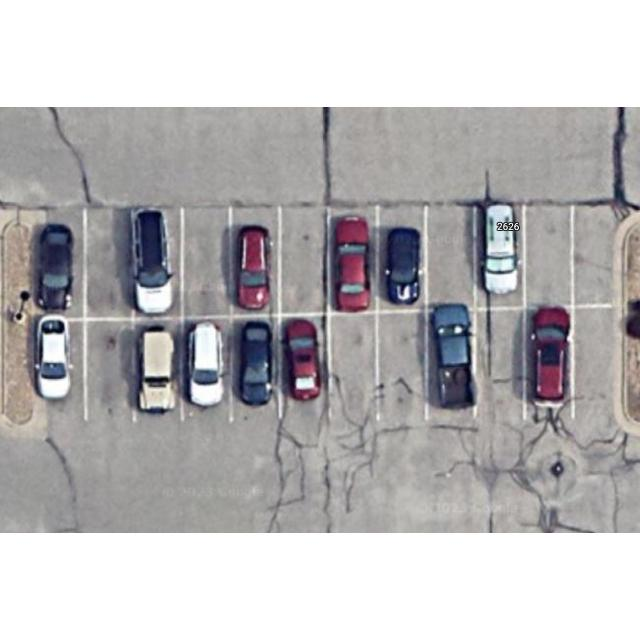Empty: (181, 209, 231, 317), (278, 209, 328, 313), (423, 207, 475, 307), (376, 313, 426, 417), (476, 310, 524, 418), (328, 314, 378, 416), (85, 212, 133, 316), (572, 207, 622, 305), (85, 319, 135, 417), (574, 308, 620, 414), (524, 208, 572, 306)
Parked: (525, 308, 575, 417), (132, 210, 182, 318), (230, 209, 280, 317), (326, 210, 376, 312), (427, 311, 475, 417), (378, 207, 427, 309), (184, 321, 232, 415), (134, 320, 182, 414), (478, 208, 524, 306), (282, 316, 328, 414), (37, 321, 85, 411), (234, 319, 278, 415), (44, 215, 84, 317)
